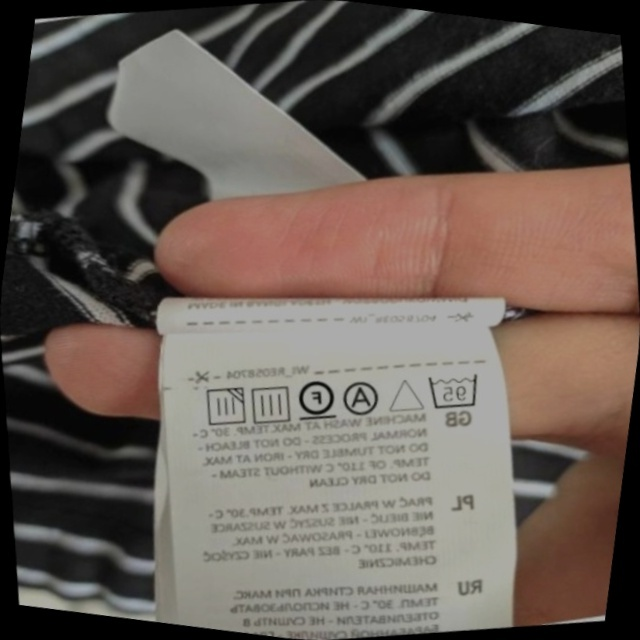95C: (418, 361, 488, 420)
bleach: (381, 367, 431, 421)
drip_dry: (241, 375, 300, 432)
drip_dry_in_shade: (193, 377, 254, 437)
dry_clean: (336, 373, 388, 423)
dry_clean_petrol_only: (288, 369, 343, 428)
